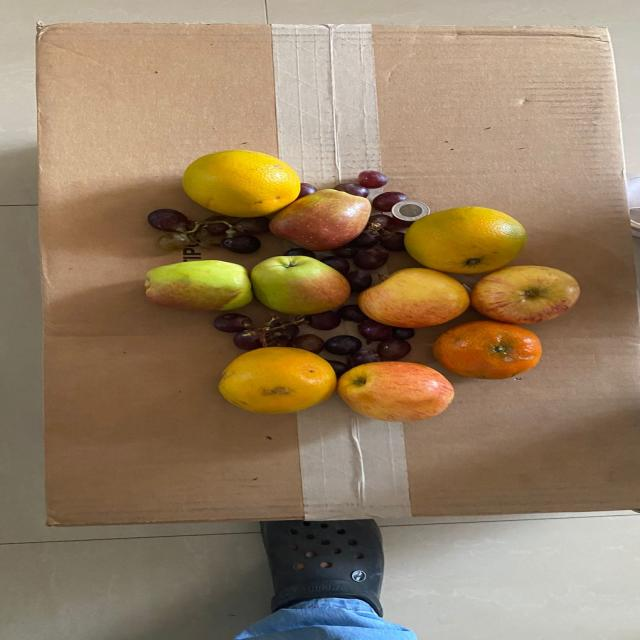moneda: (391, 200, 430, 220)
